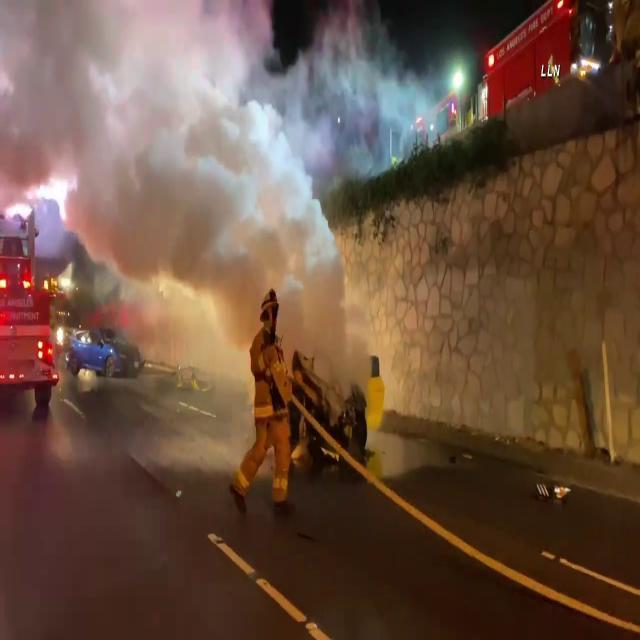Smoke: (1, 0, 417, 392)
